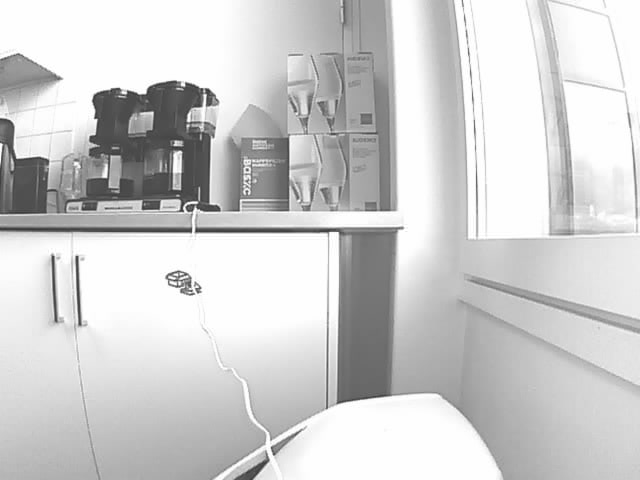not empty coffee: (141, 140, 195, 197), (86, 146, 138, 200)
